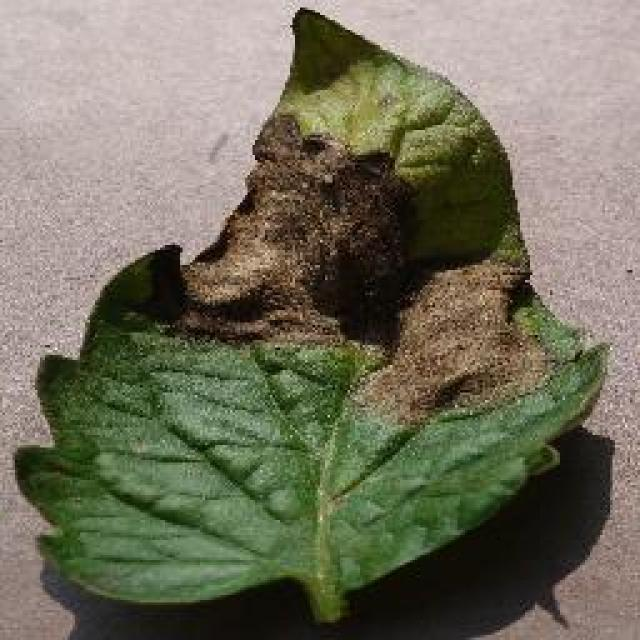Tomato late blight leaf: (34, 10, 596, 612)
